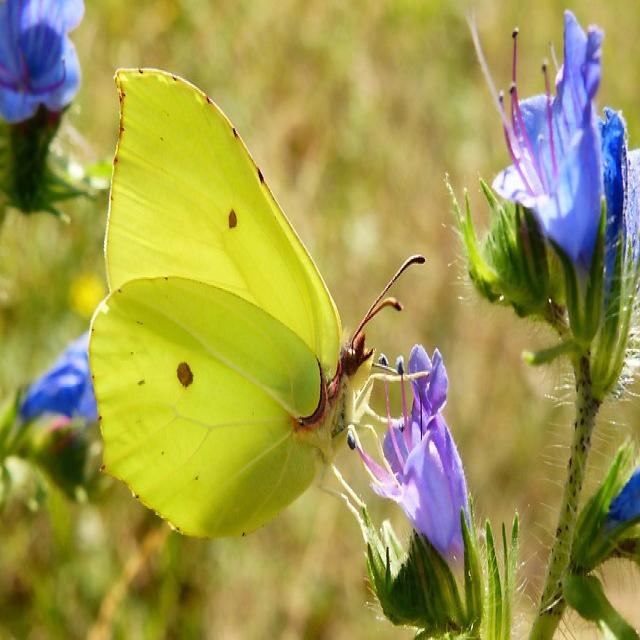butterfly: (88, 69, 385, 541)
